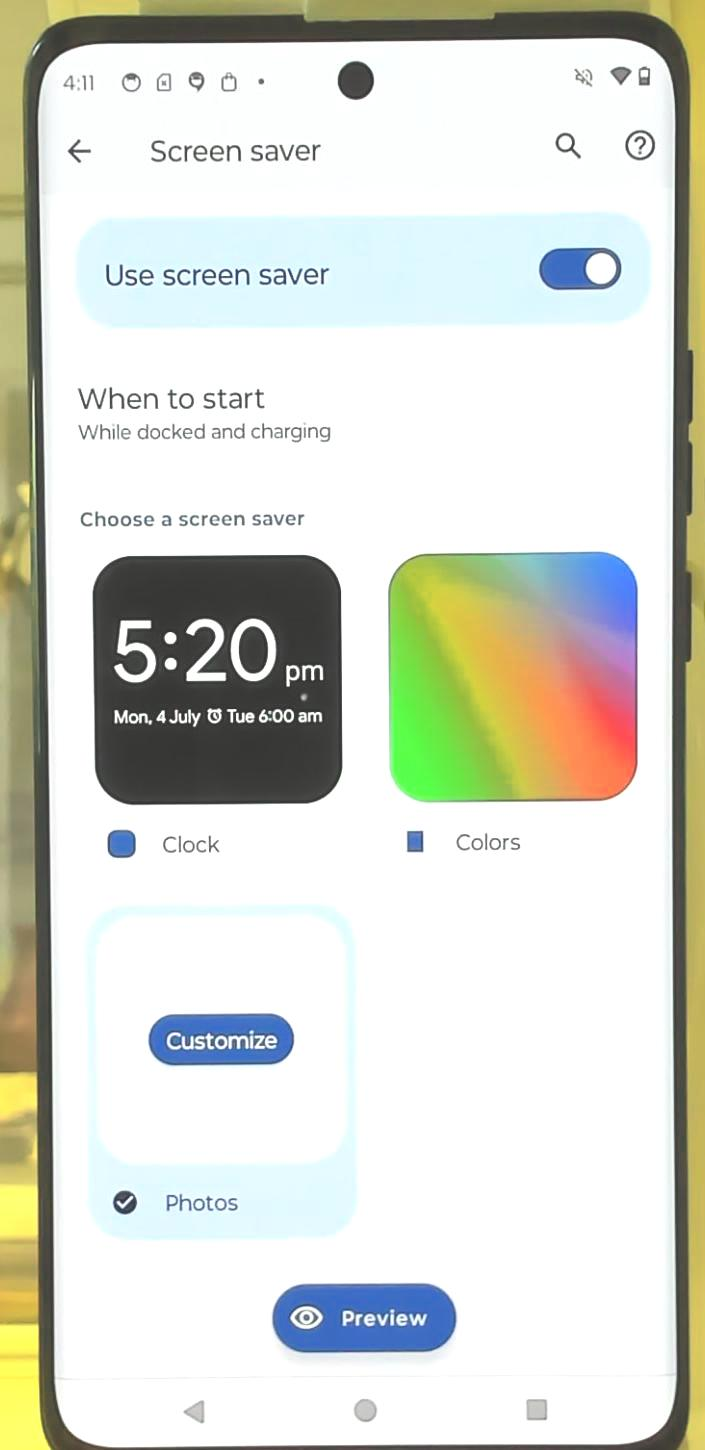Checkbox: (88, 238, 630, 301)
